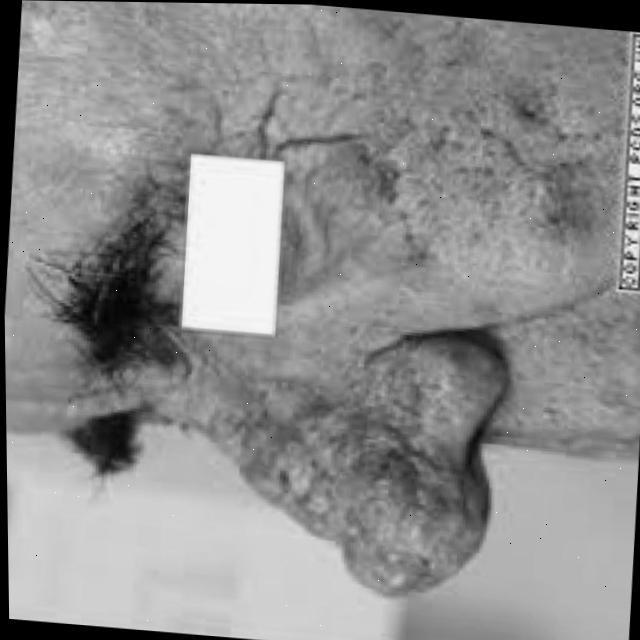Rosacea: (220, 390, 454, 559), (354, 83, 597, 239)
